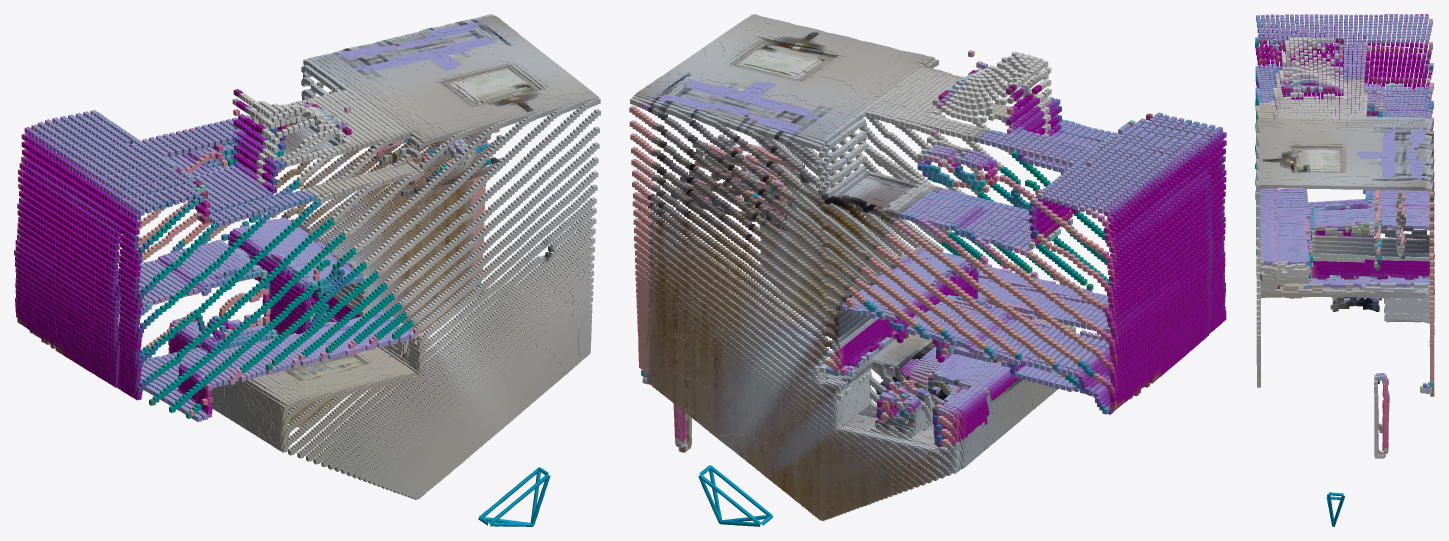
3 renders of one model, left to right at view 1: azimuth 30°, elevation 25°; view 2: azimuth 150°, elevation 25°; view 3: azimuth 270°, elevation 25°, orthographic. The views are drawn at different scales.
Bounding box in the file's own units: 5.6 × 5.68 × 2.42.
